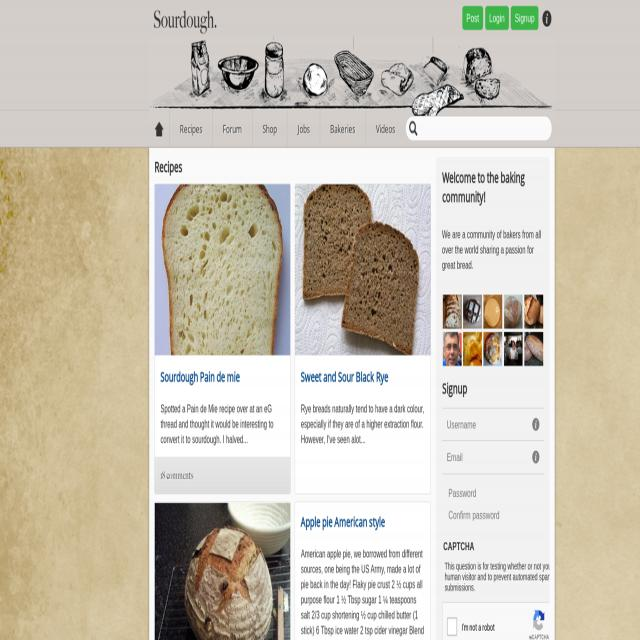button: (295, 184, 431, 356), (155, 184, 290, 356), (149, 4, 229, 37), (511, 6, 538, 31), (463, 295, 482, 329), (463, 332, 482, 366), (443, 295, 461, 329), (484, 295, 502, 329), (504, 295, 522, 329), (525, 295, 543, 329), (443, 332, 461, 366), (484, 332, 502, 366), (504, 332, 522, 366), (525, 332, 543, 366), (485, 6, 509, 31), (462, 6, 483, 31)
field: (406, 116, 552, 141), (448, 506, 550, 524), (446, 416, 540, 434), (446, 448, 540, 466), (448, 484, 538, 502)
